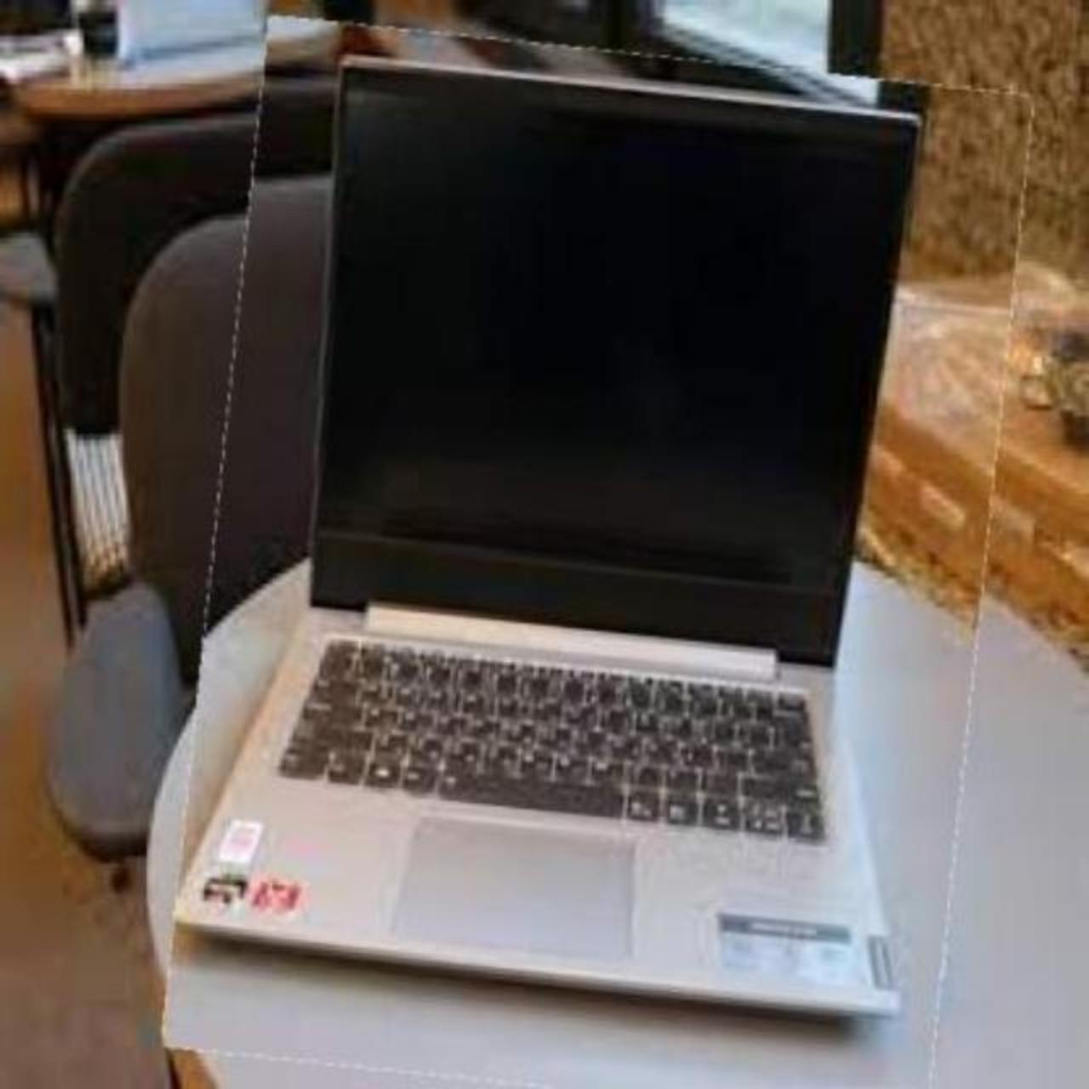laptop: (186, 31, 1005, 1088)
